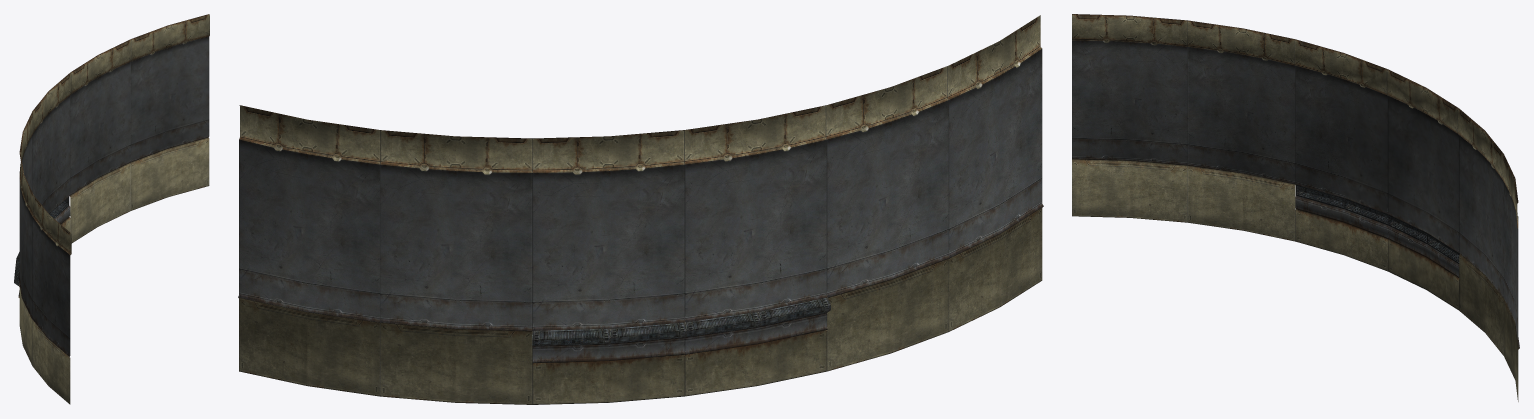
File: datasite_concave_large02.dae
3 renders of one model, left to right at view 1: azimuth 30°, elevation 25°; view 2: azimuth 150°, elevation 25°; view 3: azimuth 270°, elevation 25°, orthographic. The views are drawn at different scales.
Visible parts, largest first — view 1: polySurface38, pPlane2; view 2: polySurface38, pPlane2; view 3: polySurface38, pPlane2.
Part boxes in pixels (x1=…): polySurface38: x1=18, y1=14, x2=209, y2=404; pPlane2: x1=14, y1=196, x2=69, y2=285; polySurface38: x1=238, y1=15, x2=1043, y2=404; pPlane2: x1=532, y1=297, x2=830, y2=345; polySurface38: x1=1072, y1=14, x2=1519, y2=401; pPlane2: x1=1296, y1=184, x2=1459, y2=263.
Bounding box in the file's own units: 8.02 × 4 × 8.03.
